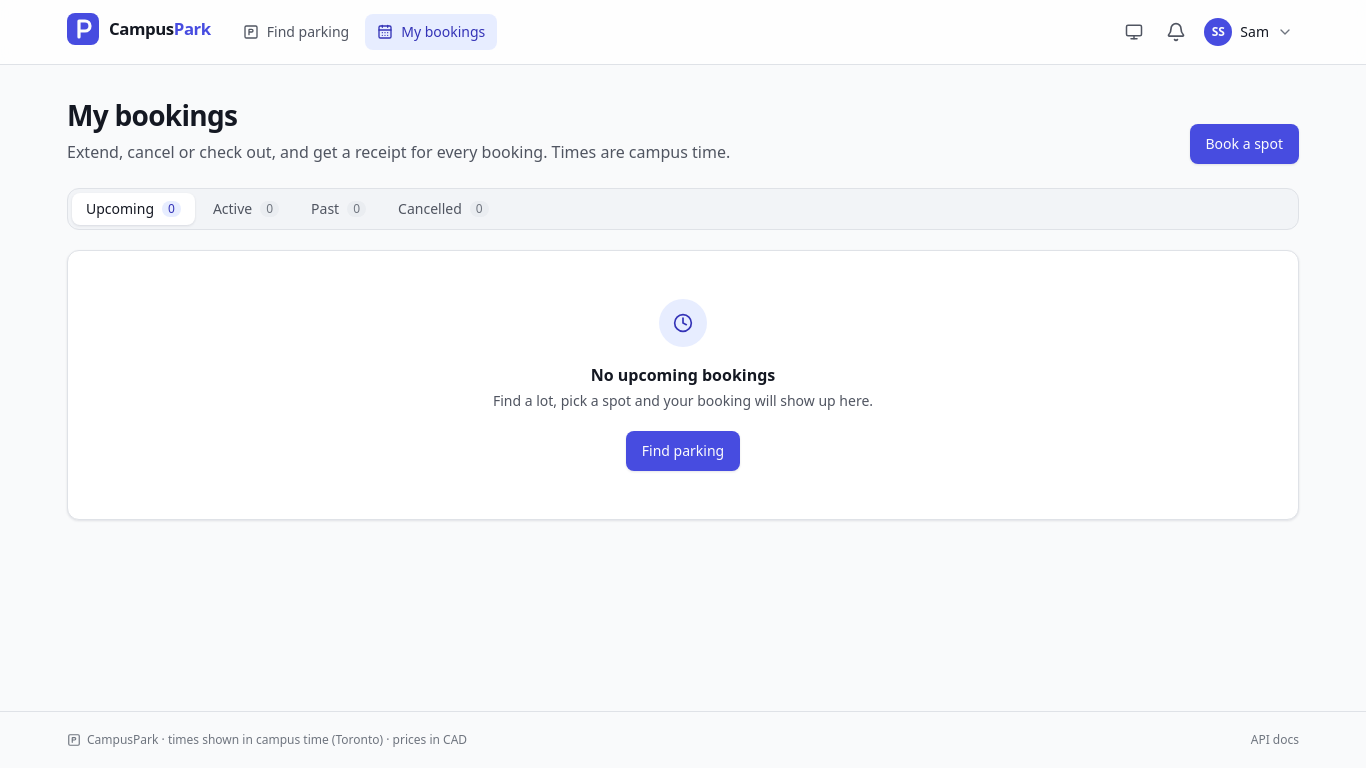
Test: login flow › signs out from a protected page without bouncing back to it on the next sign-in
The width and height of the screenshot is (1366, 768).
Click the button named "account menu": coordinates (1250, 32) [1200,14,1299,50]
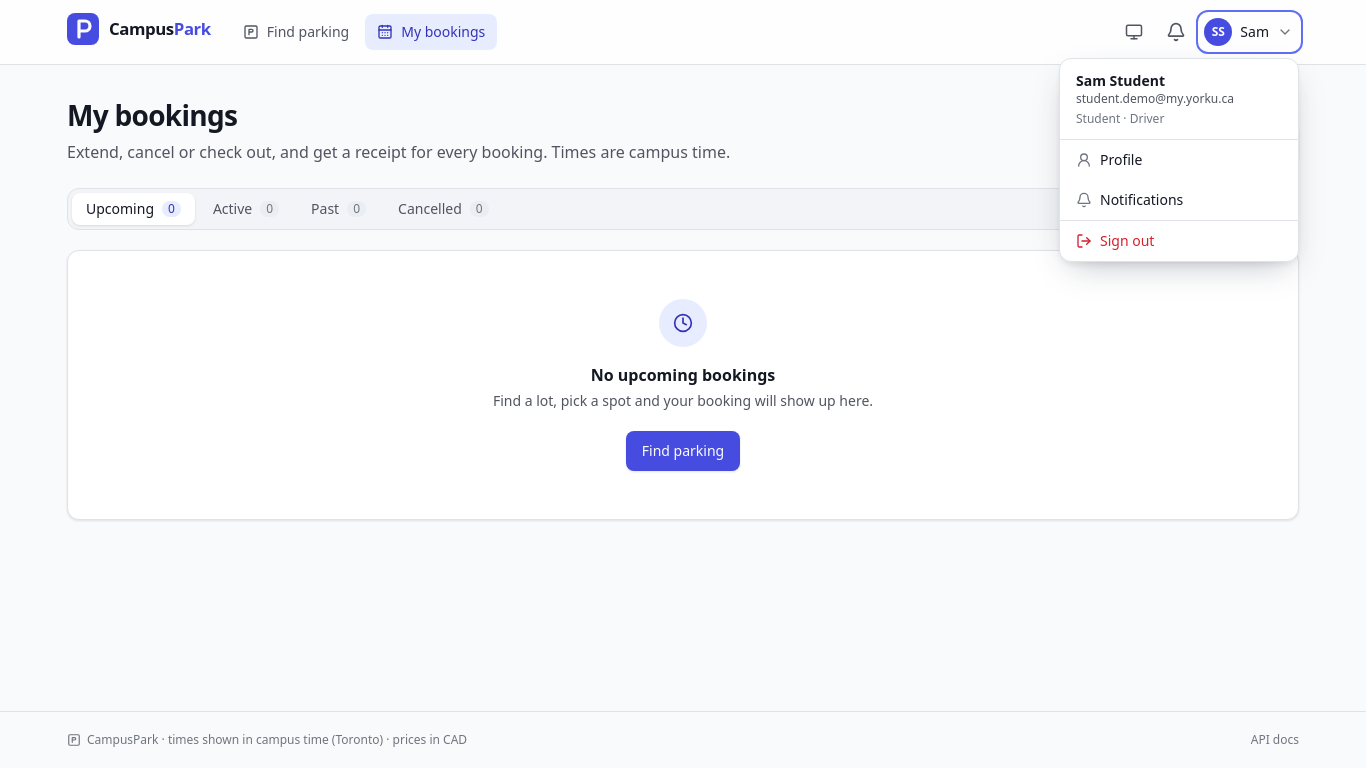
Click the menu item "Sign out": coordinates (1179, 240) [1060,220,1298,261]
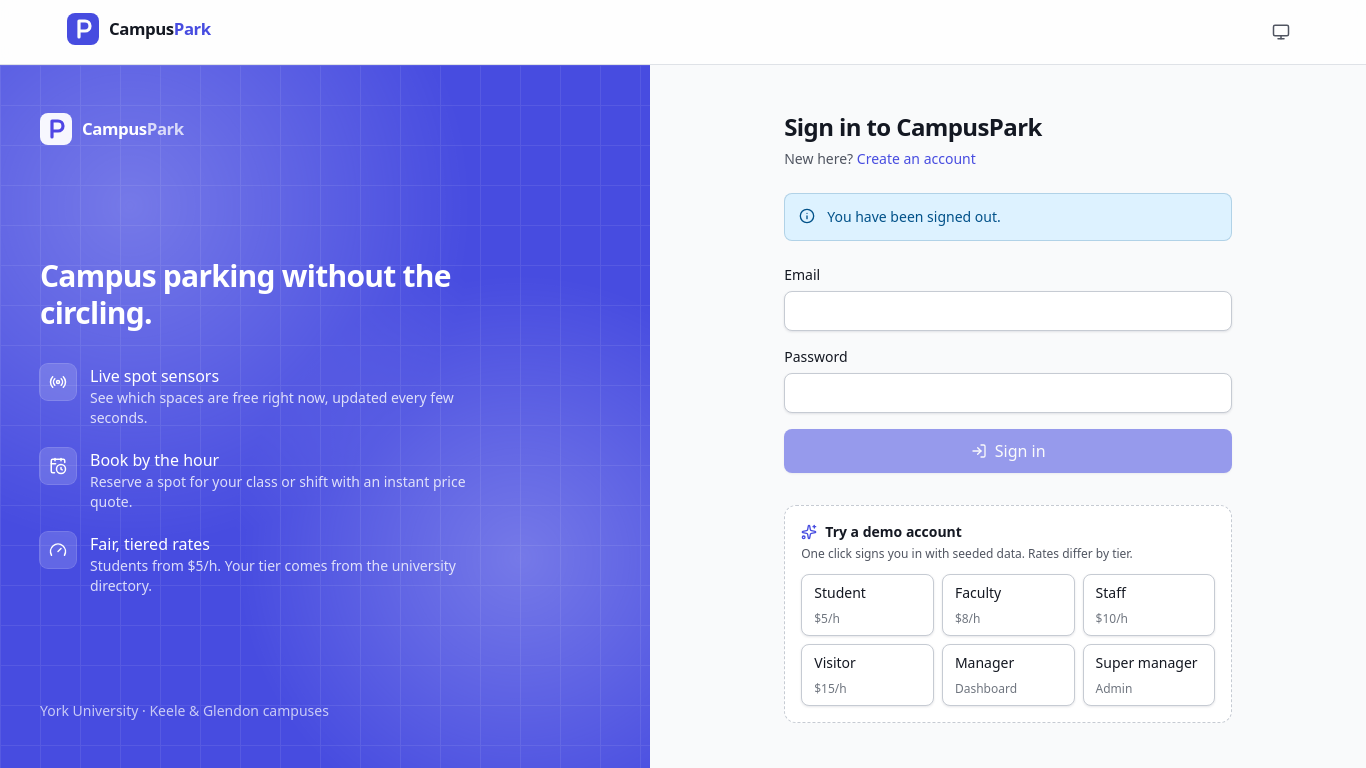
expect the text "You have been signed out." is shown: met, box [827,207,1001,226]
